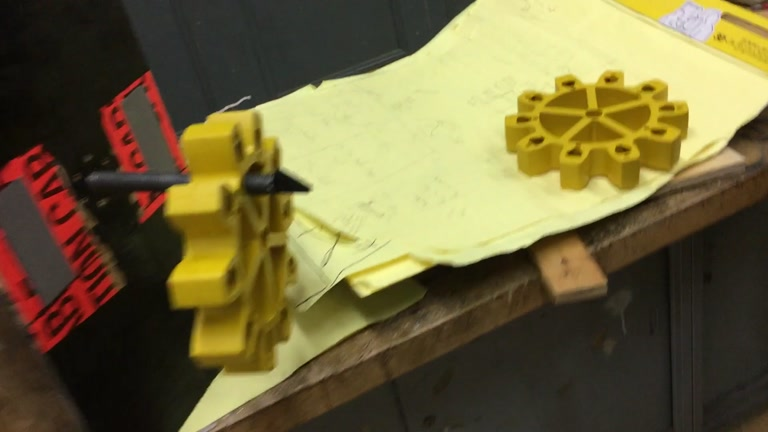gear: (163, 110, 301, 369), (504, 71, 688, 191)
